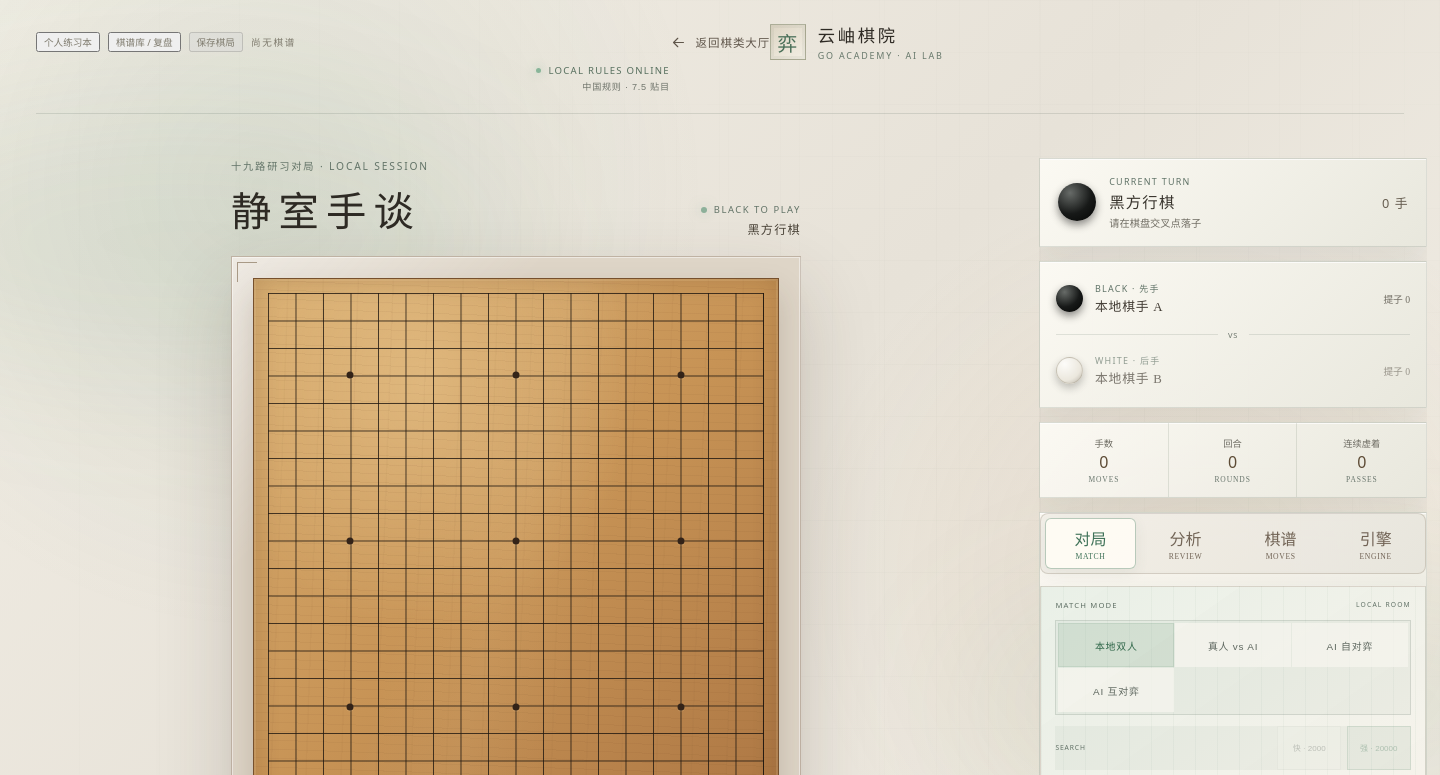
it: 围棋 React 页面 › 本地双人落子不自动加载 KataGo，仅在用户请求赛后分析后运行
Click the cell named "D16，空点" at (350, 376), box [336,362,364,389]
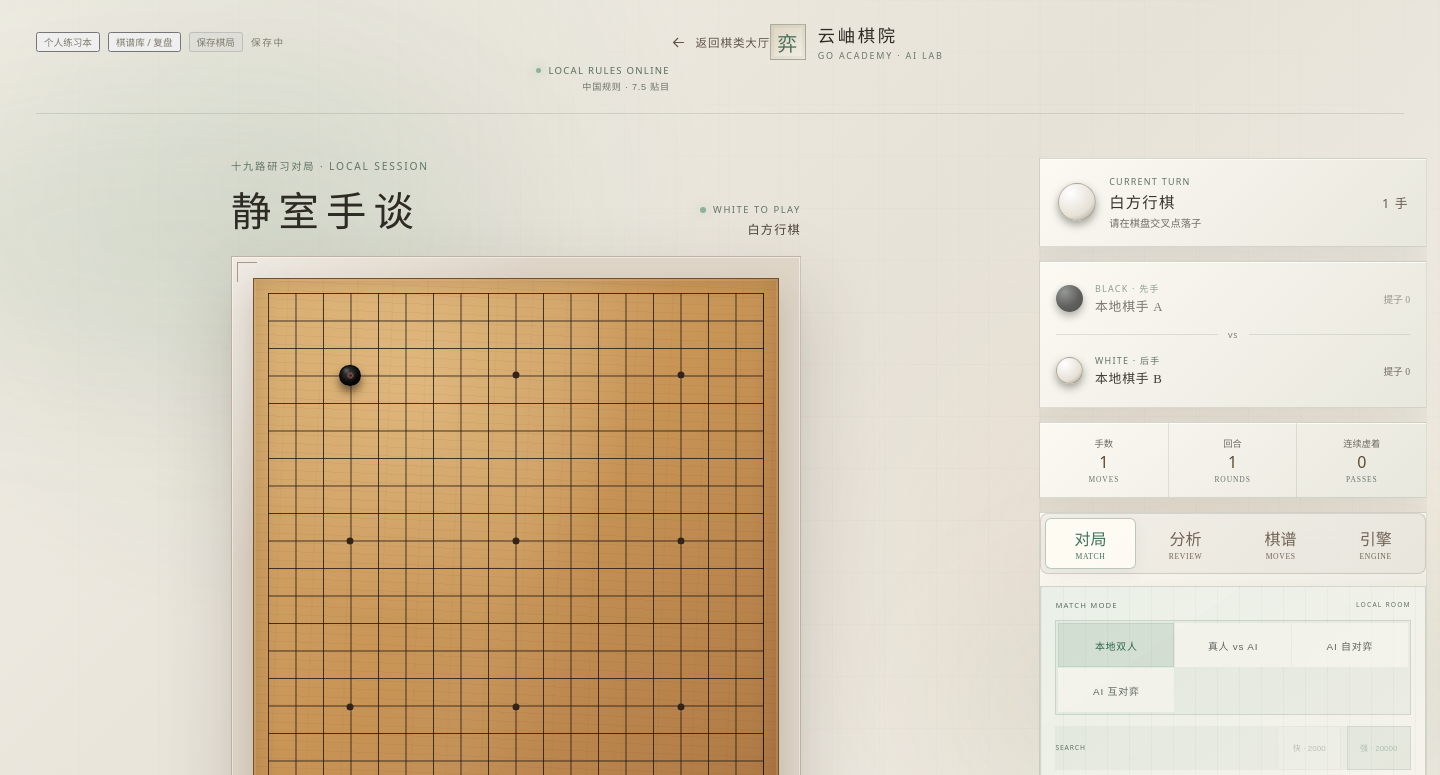
Click the tab "分析 REVIEW" at (1186, 543), box [1140,518,1231,569]
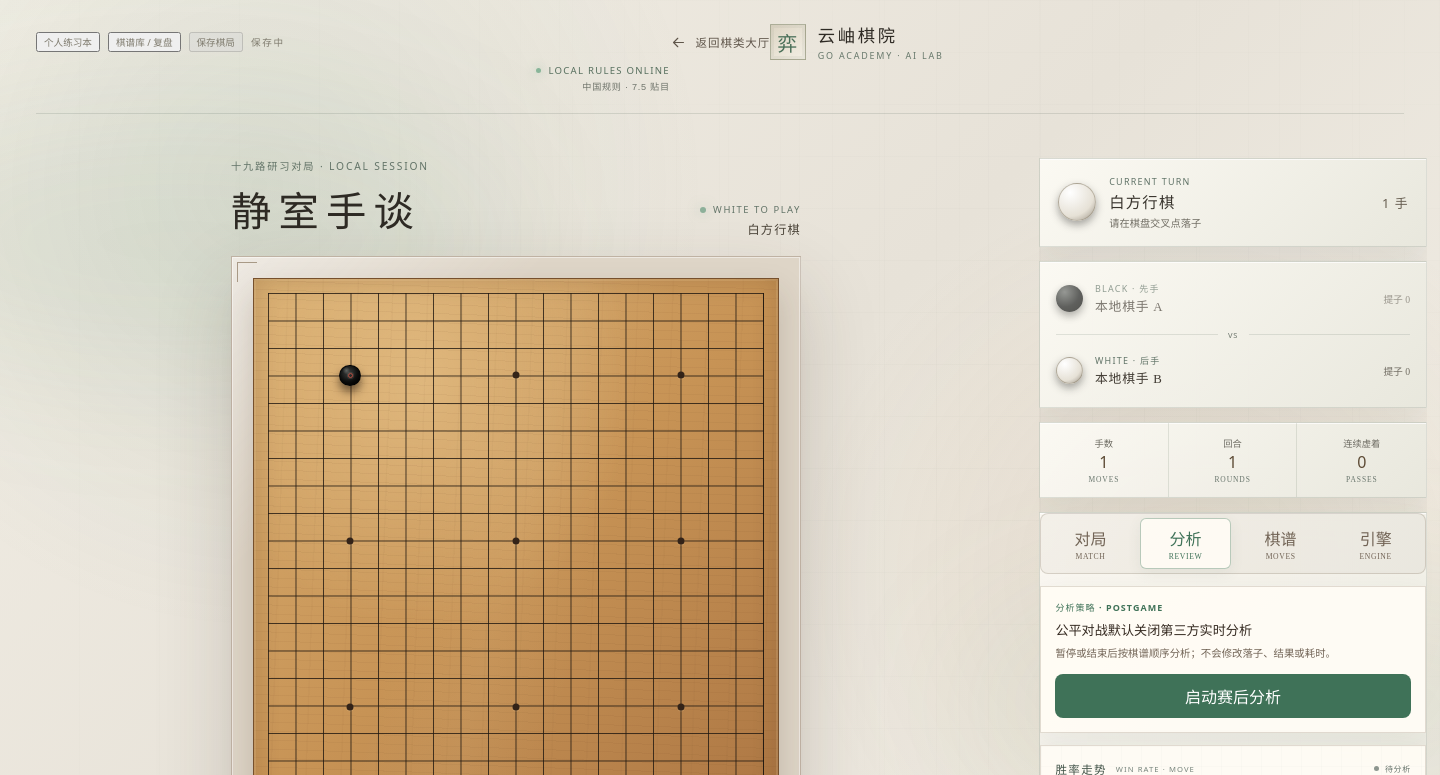
Click the button "启动赛后分析" at (1233, 696), box [1055,674,1411,718]
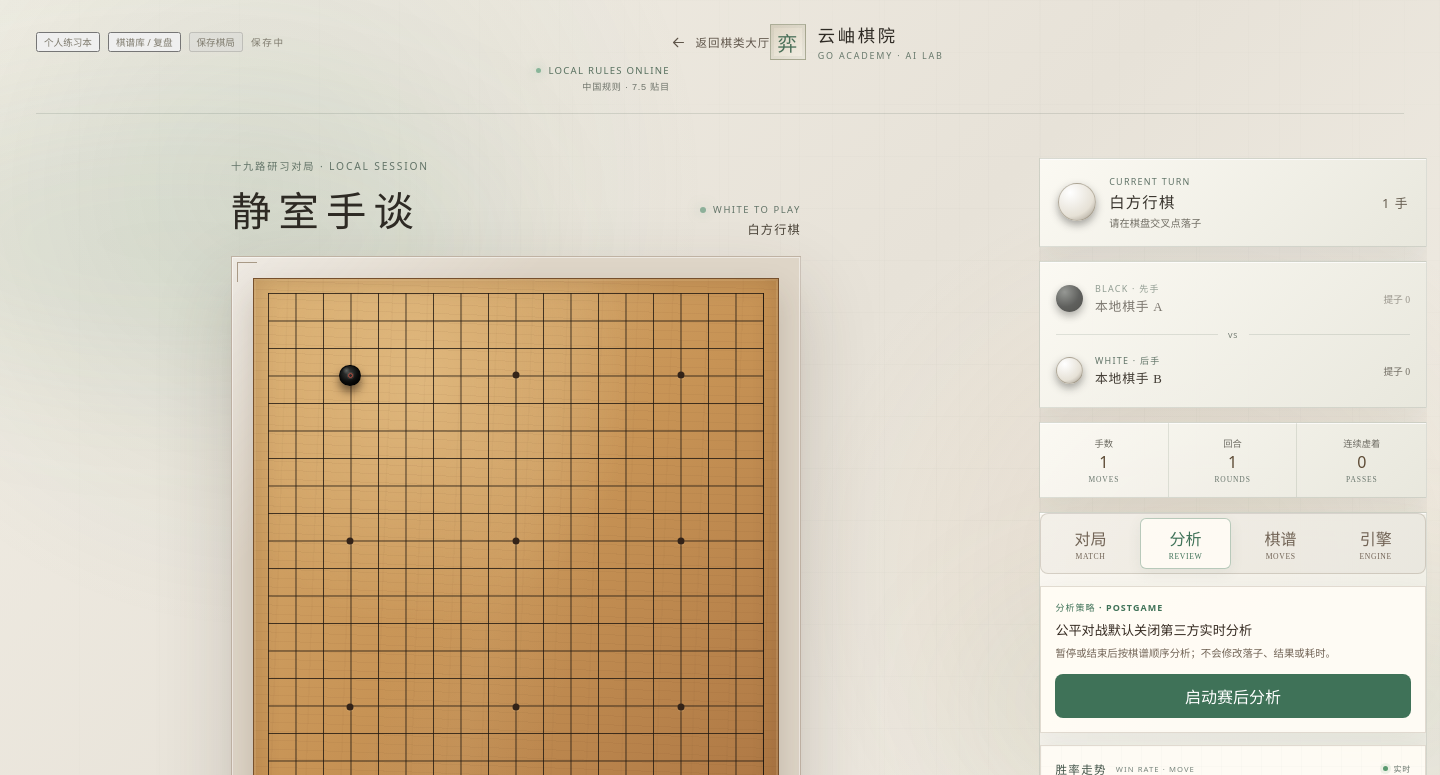
Click the cell named "E16，空点" at (378, 376), box [364,362,392,389]
(page scrolled)
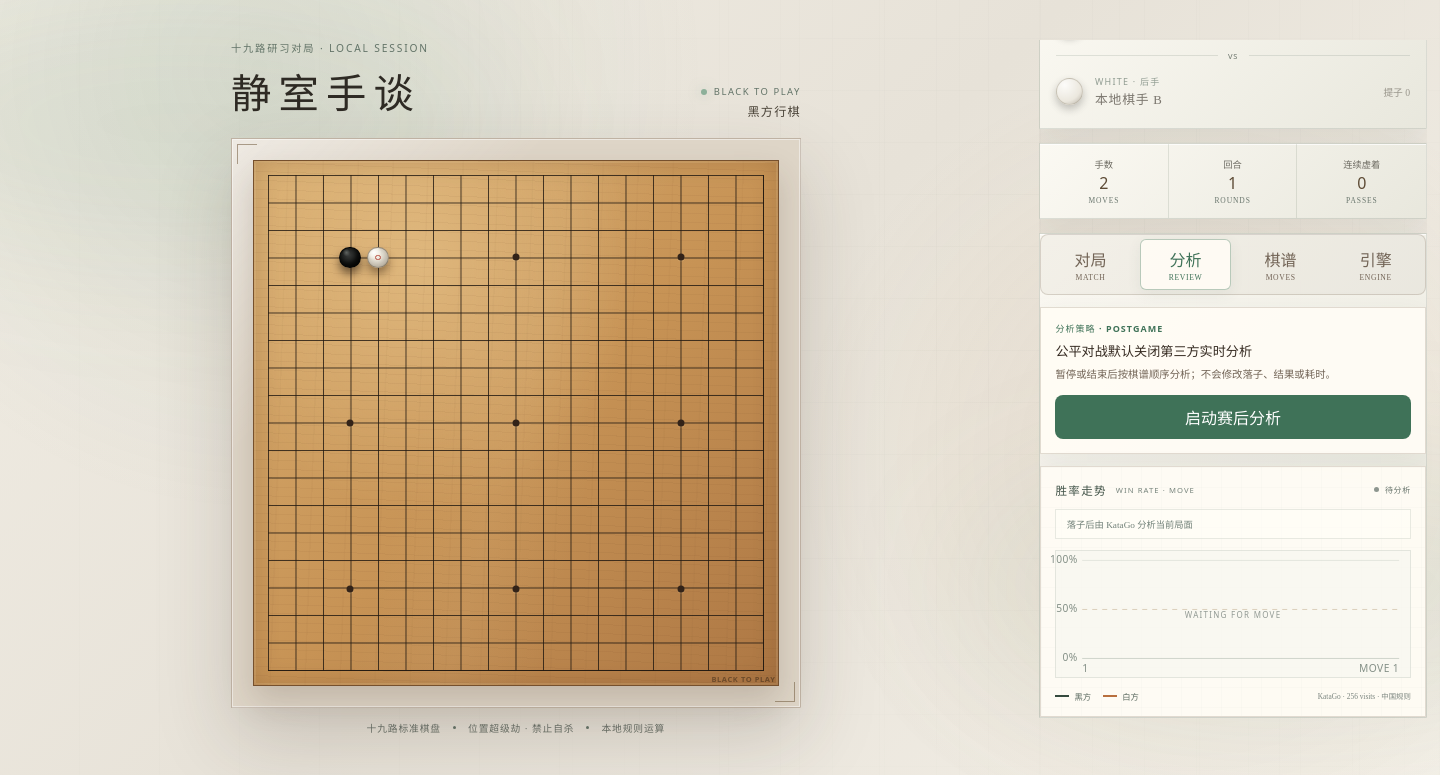
Result: the element labelled "胜率走势" shows "待分析" at [1385,486,1411,495]
